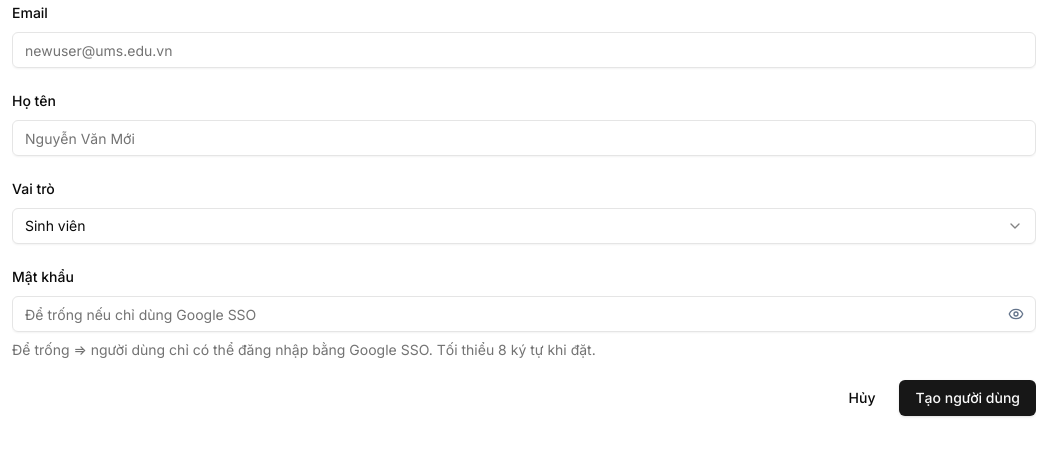
Test: UserCreateForm — Admin create-user flow (FE-S15) › M31-FE-S15-X1: duplicate email (matches a seeded persona) → inline field error, no navigate
Type "admin@ums.edu.vn" into the field labelled "Email".
click(524, 50); type("admin@ums.edu.vn")  # box [12, 32, 1036, 68]
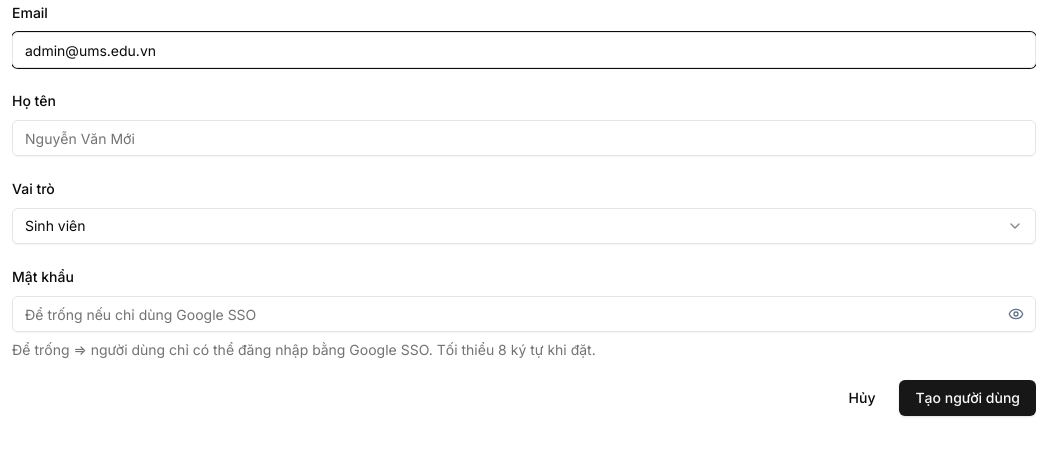
Type "Trùng email" into the field labelled "Họ tên".
click(524, 138); type("Trùng email")  # box [12, 120, 1036, 156]
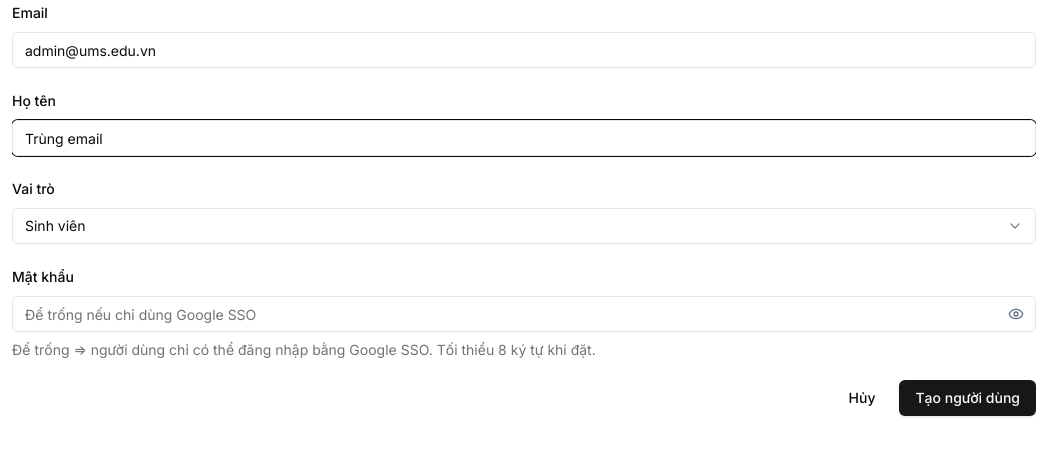
Click the button "Tạo người dùng".
click(968, 398)  # box [900, 380, 1036, 416]
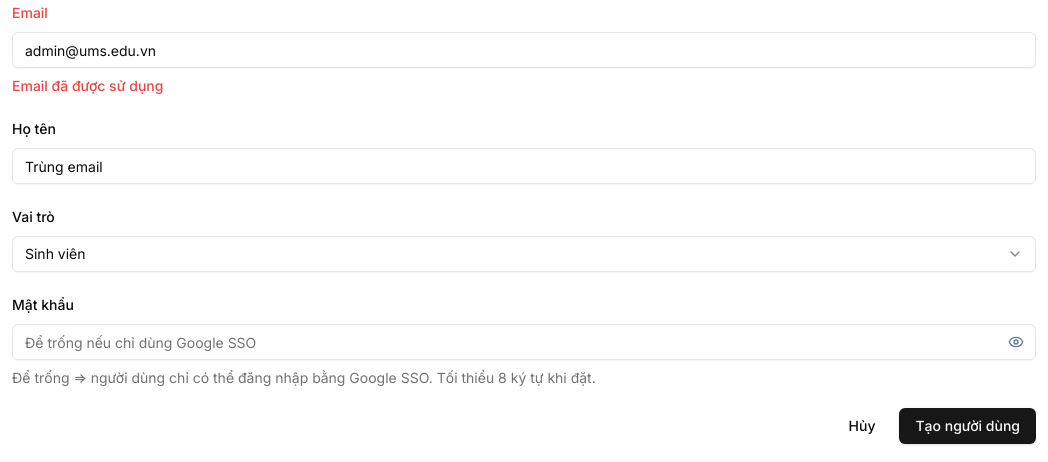
Check: the text "Email đã được sử dụng" is shown, box [12, 77, 163, 94]
